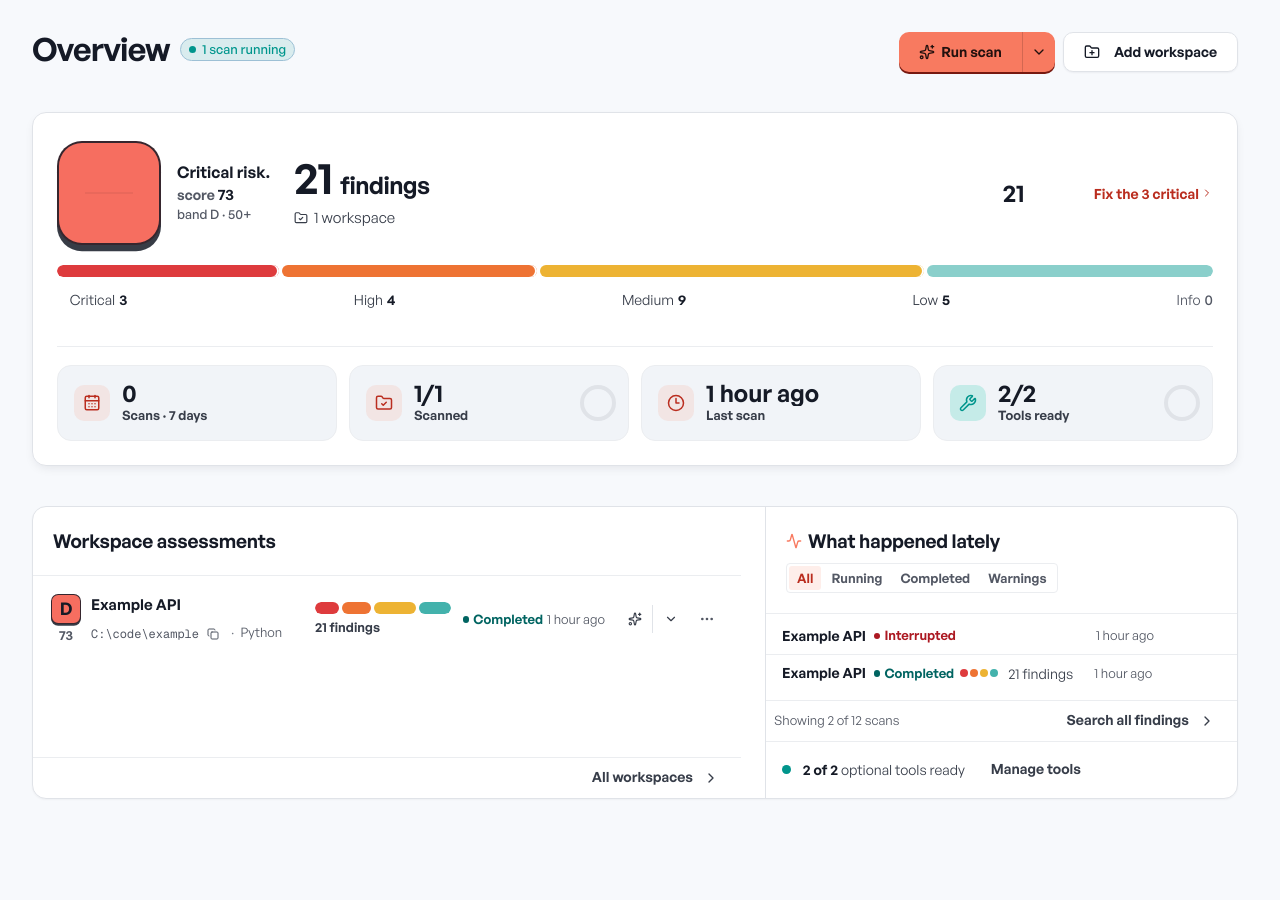
Test case: HomePage risk board — feed regressions › counts interrupted scans under Warnings and tones them as danger
Click the button with class "feed-filter-btn" showing "Warnings" at (1017, 578), box top-left (980, 566), bottom-right (1054, 590)
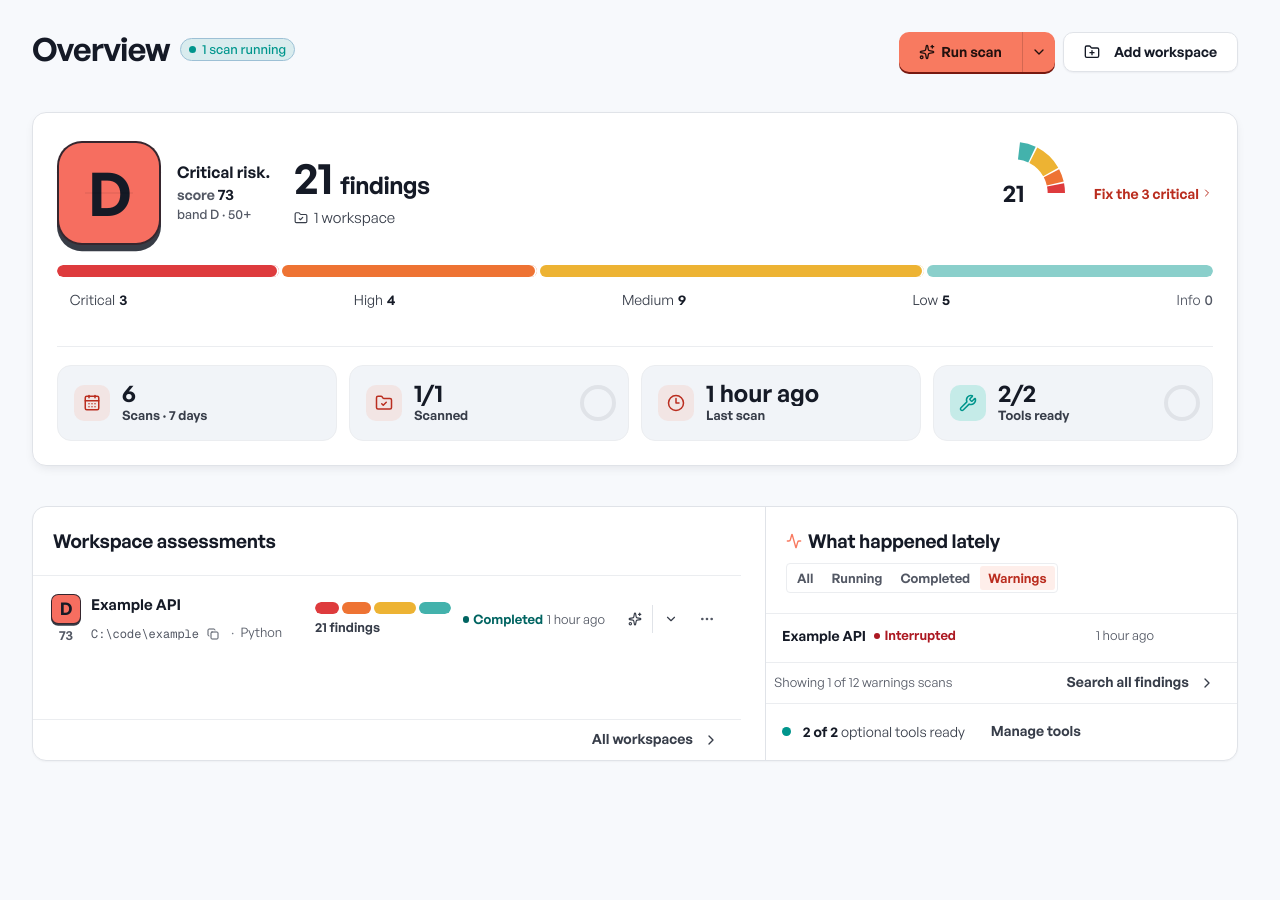
Expected: the element with class "state-danger" reads "Interrupted", top-left (884, 627), bottom-right (956, 643)
Expected: the number of list items with class "feed-row" is 1, top-left (766, 618), bottom-right (1237, 654)
